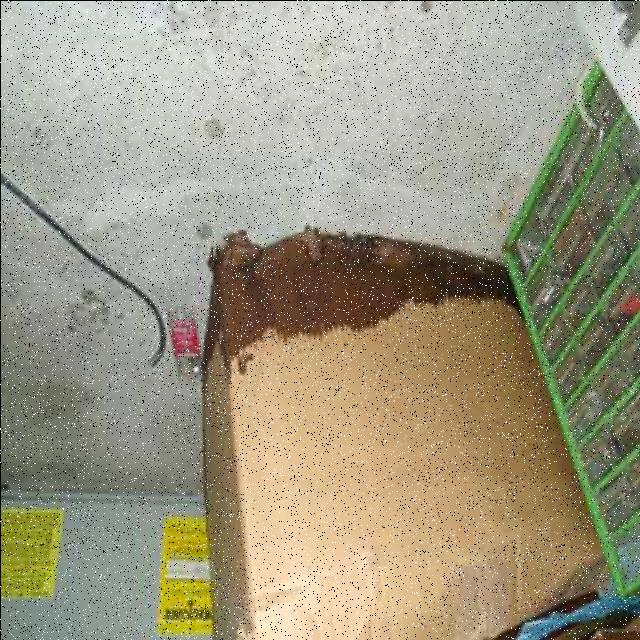defect: (195, 218, 564, 639)
